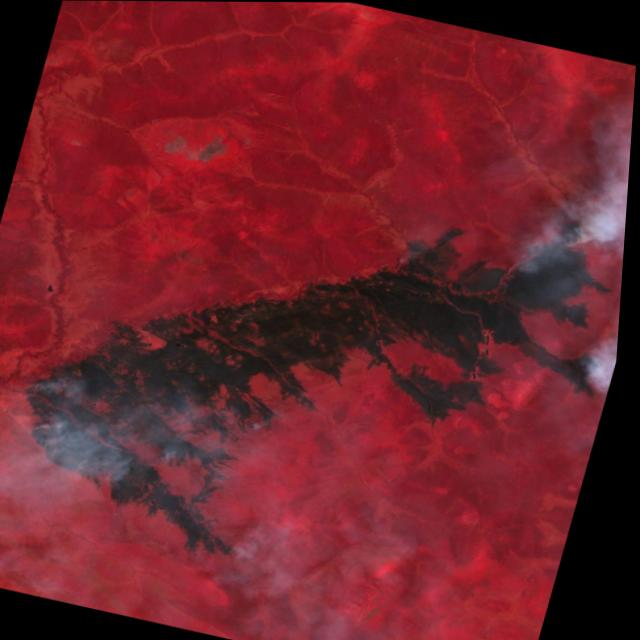fire: (2, 375, 126, 485), (499, 199, 603, 298), (569, 343, 622, 385), (211, 527, 259, 566)
